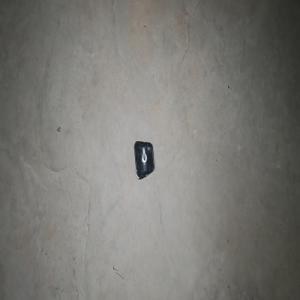LuggagePart: (133, 140, 154, 180)
